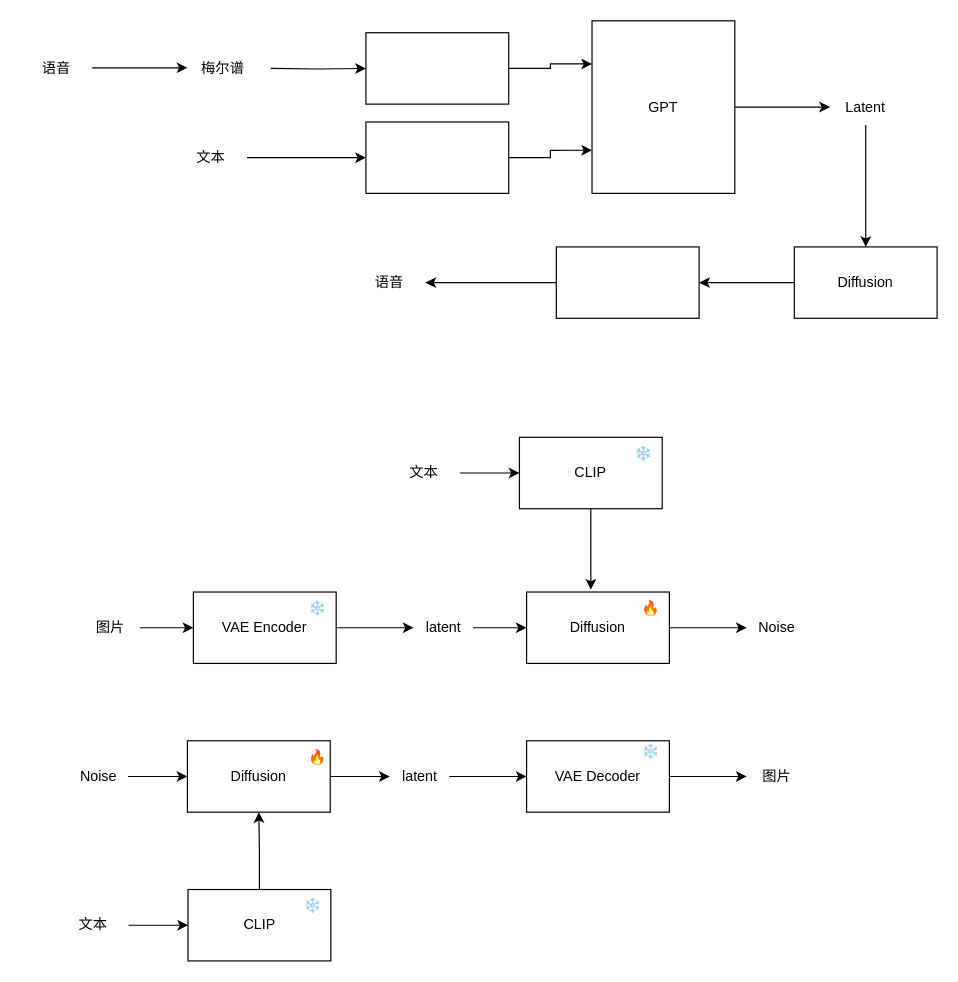
Image size: 958x982. Some labels were removed from this diagram. Here are the shapes that lost their labels. From the top down, the centre of each, then its label:
(437,68): VQVAE
(437,157): BPE Tokenizer
(627,282): Vocoder
